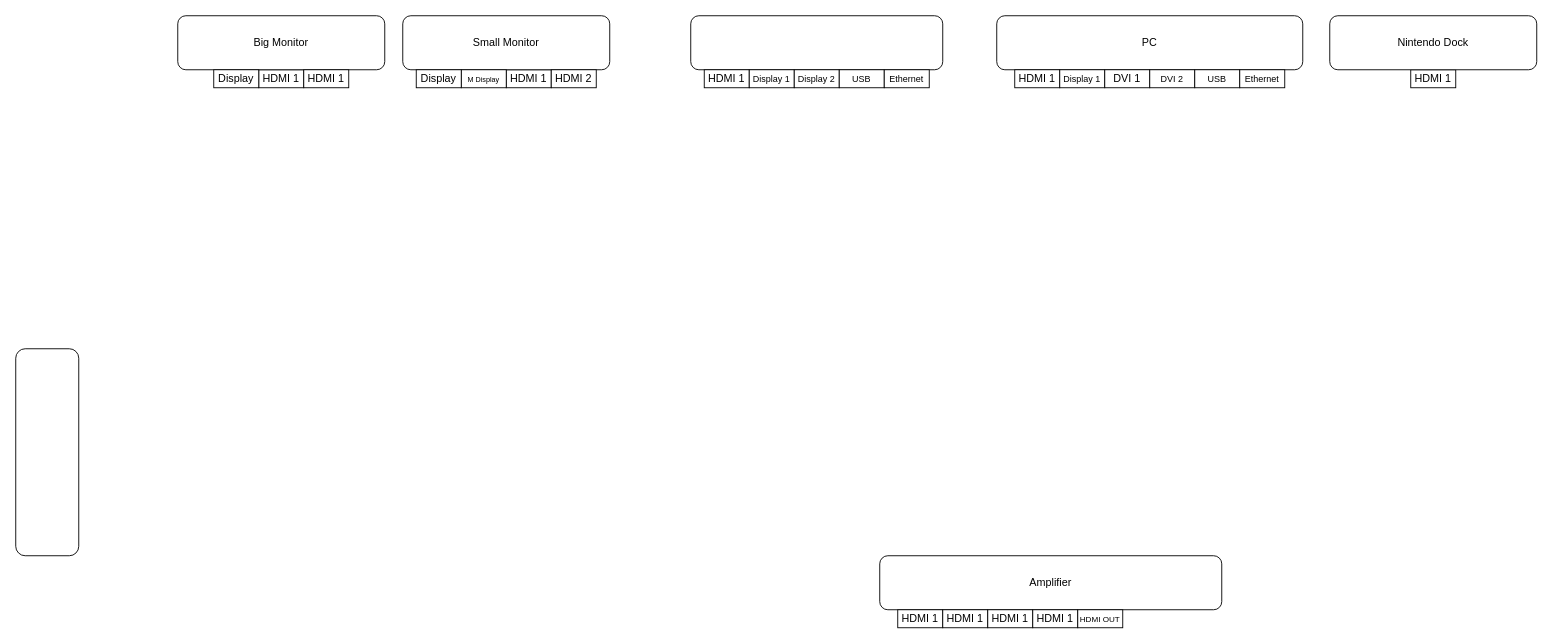
Some shapes in this 1553 by 644 pixel diagram are drawn without their labels. Here are the shapes that lost their labels. From the top down, the centre of each, then its label:
At point (816, 42): "Laptop Dock".
At point (47, 452): "Projector".
